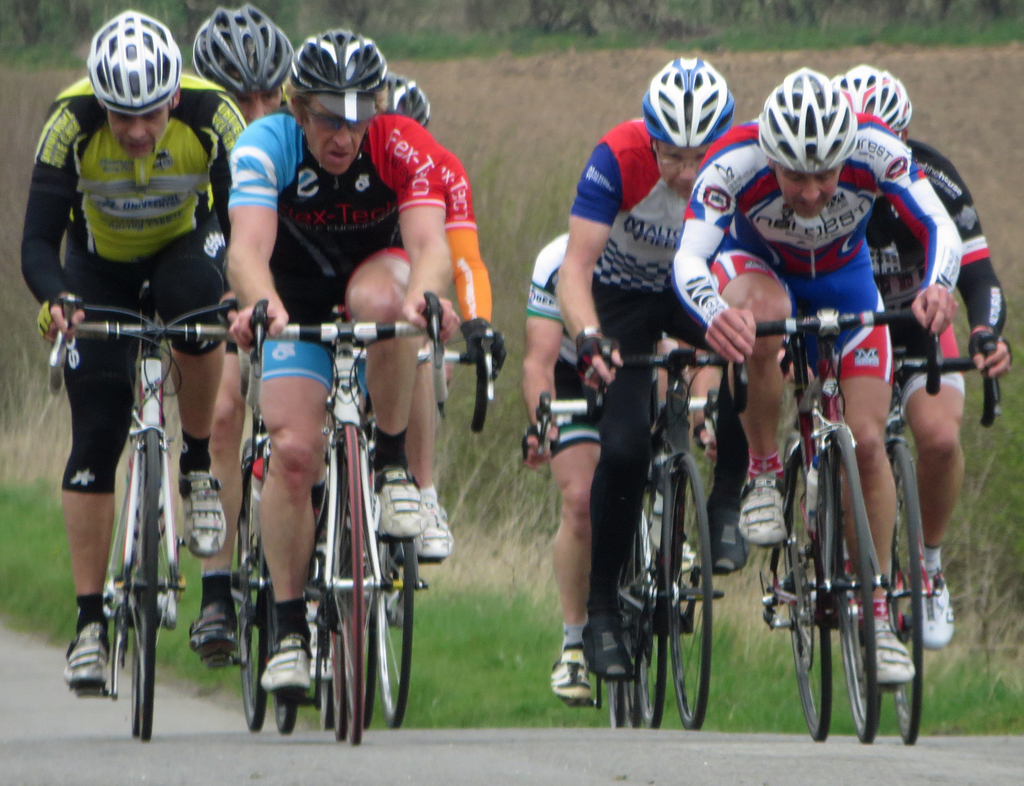Bike_toward: (64, 308, 250, 724)
